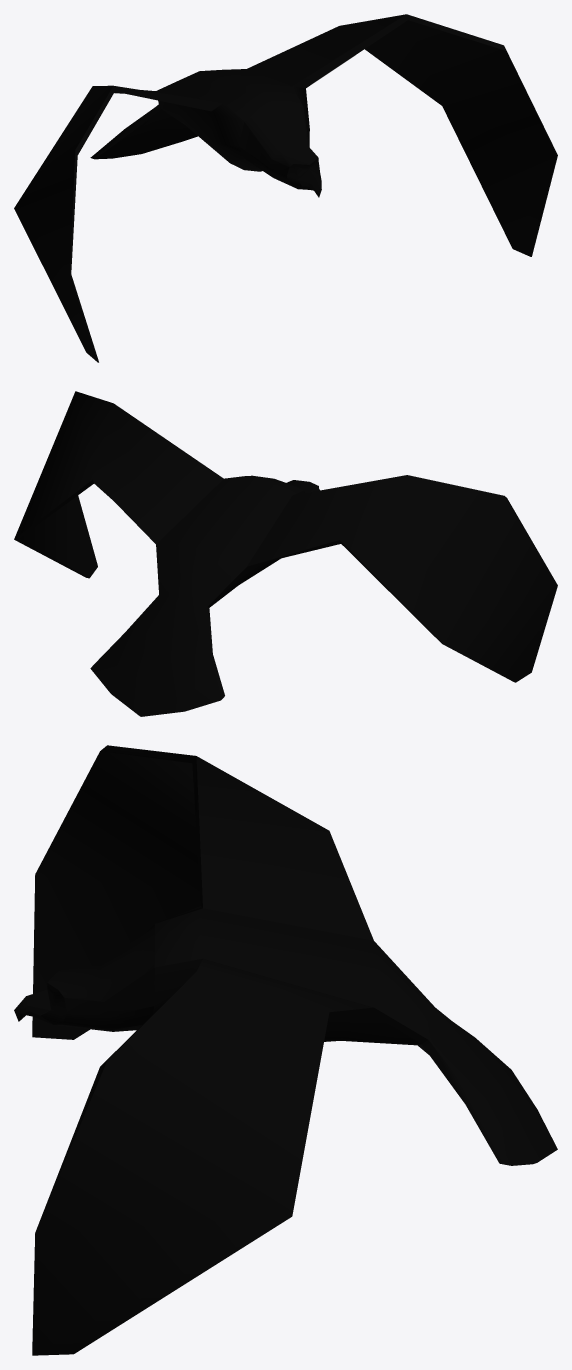
The model's file is eagle_mesh.fbx.
The picture shows the model from 3 angles, top to bottom: view 1: azimuth 30°, elevation 25°; view 2: azimuth 150°, elevation 25°; view 3: azimuth 270°, elevation 25°; orthographic projection. The views are drawn at different scales.
Parts seen in each view (by area): view 1: eagle; view 2: eagle; view 3: eagle.
Part boxes in pixels (x1,y1,x2,y2): eagle: (14, 14, 557, 362); eagle: (14, 391, 557, 716); eagle: (14, 745, 557, 1355).
Size of the model in its own units: 1.15 by 0.4982 by 0.7381.
